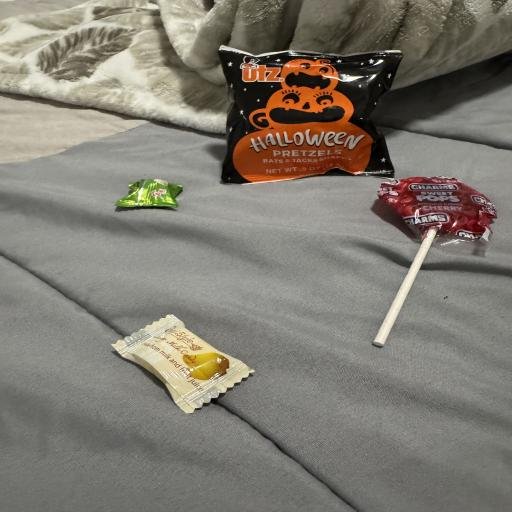chocolate: (220, 47, 402, 183), (113, 315, 253, 412), (378, 176, 497, 243), (116, 179, 182, 207)
